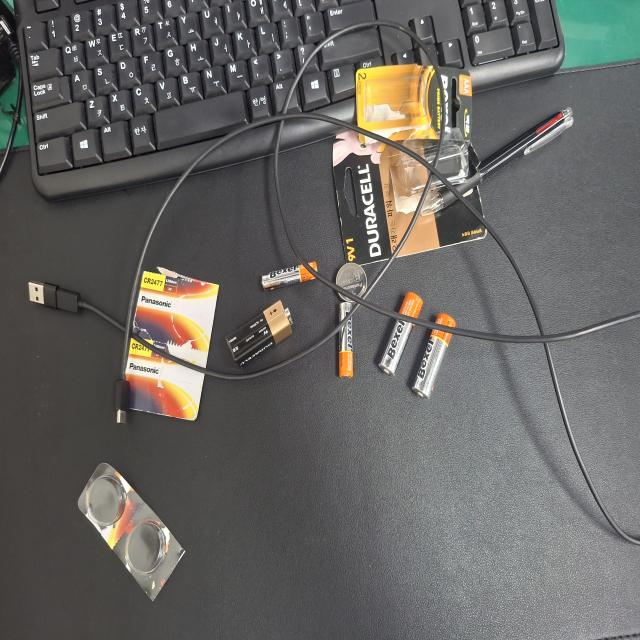9V: (204, 302, 255, 391)
AA: (195, 502, 264, 563), (179, 547, 248, 608)
AAA: (262, 350, 284, 418), (195, 448, 258, 470)
COIN: (252, 444, 284, 490)
